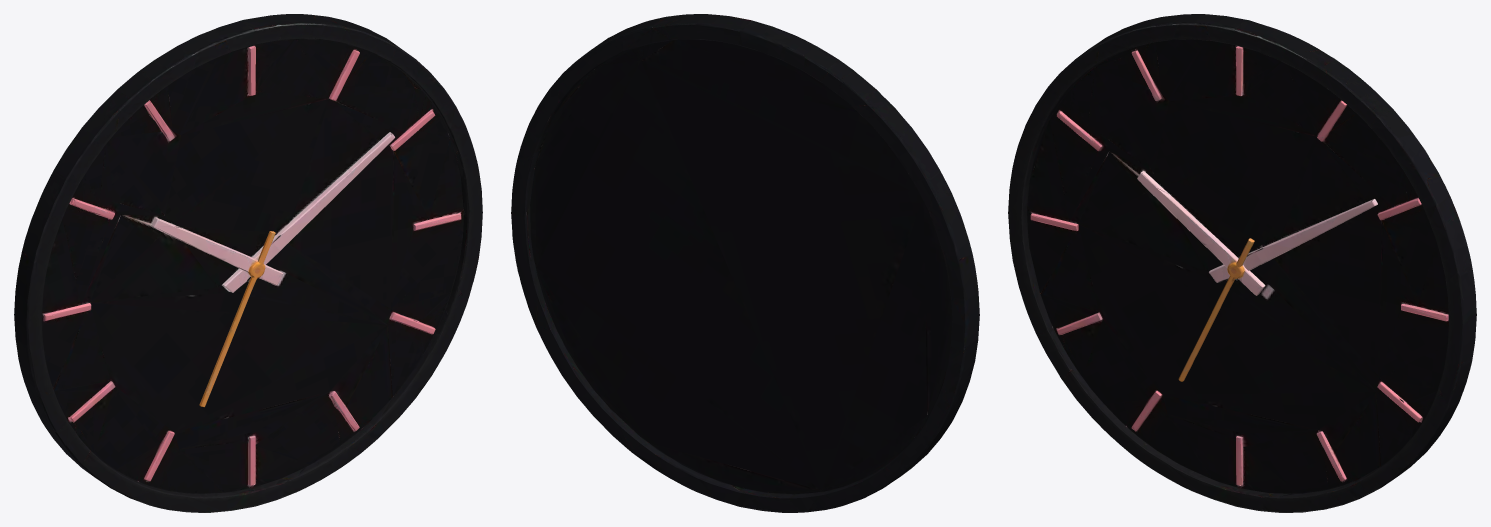
The model's file is clock.glb.
3 renders of one model, left to right at view 1: azimuth 30°, elevation 25°; view 2: azimuth 150°, elevation 25°; view 3: azimuth 330°, elevation 25°, orthographic.
Size of the model in its own units: 1.9 by 1.9 by 0.1161.
Materials: 1 (1 with a texture image).
